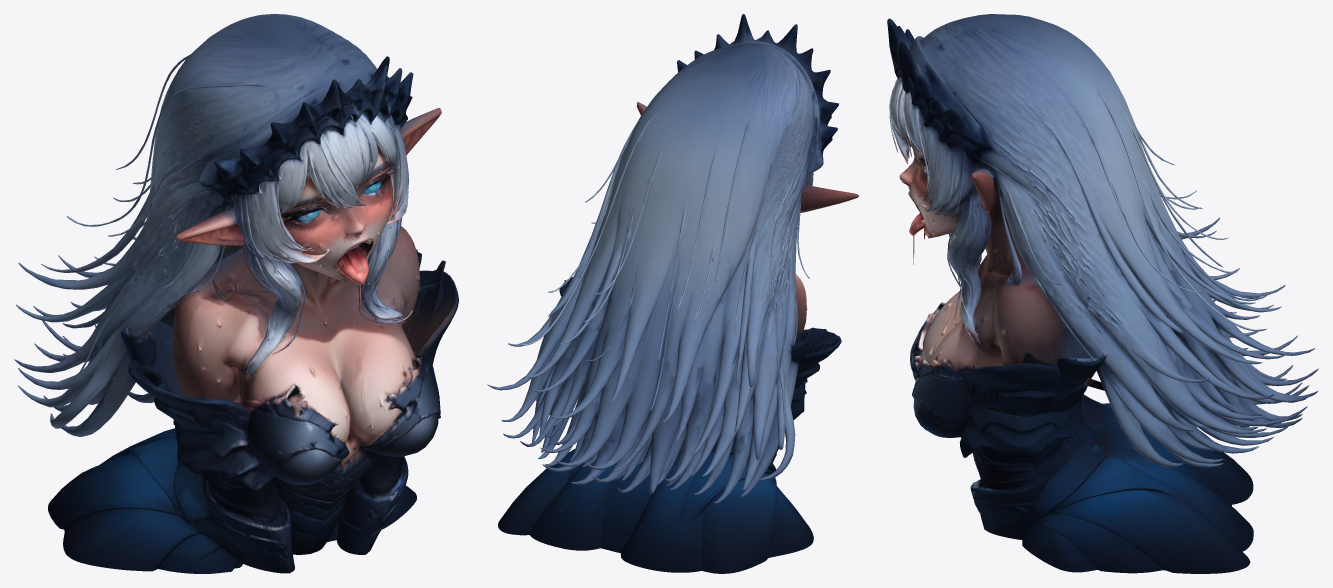
The model's file is 01a1a793-cc4b-785a-a719-adc3ce41569d.glb.
The picture shows the model from 3 angles, left to right: view 1: azimuth 30°, elevation 25°; view 2: azimuth 150°, elevation 25°; view 3: azimuth 270°, elevation 25°; orthographic projection. The views are drawn at different scales.
Visible parts, largest first — view 1: node_0; view 2: node_0; view 3: node_0.
Boxes of the visible parts, <box> form: node_0: <box>14,14,458,573</box>; node_0: <box>487,14,858,573</box>; node_0: <box>887,14,1318,573</box>.
Bounding box in the file's own units: 0.6176 × 0.9369 × 0.7662.
Materials: 1 (1 with a texture image).
